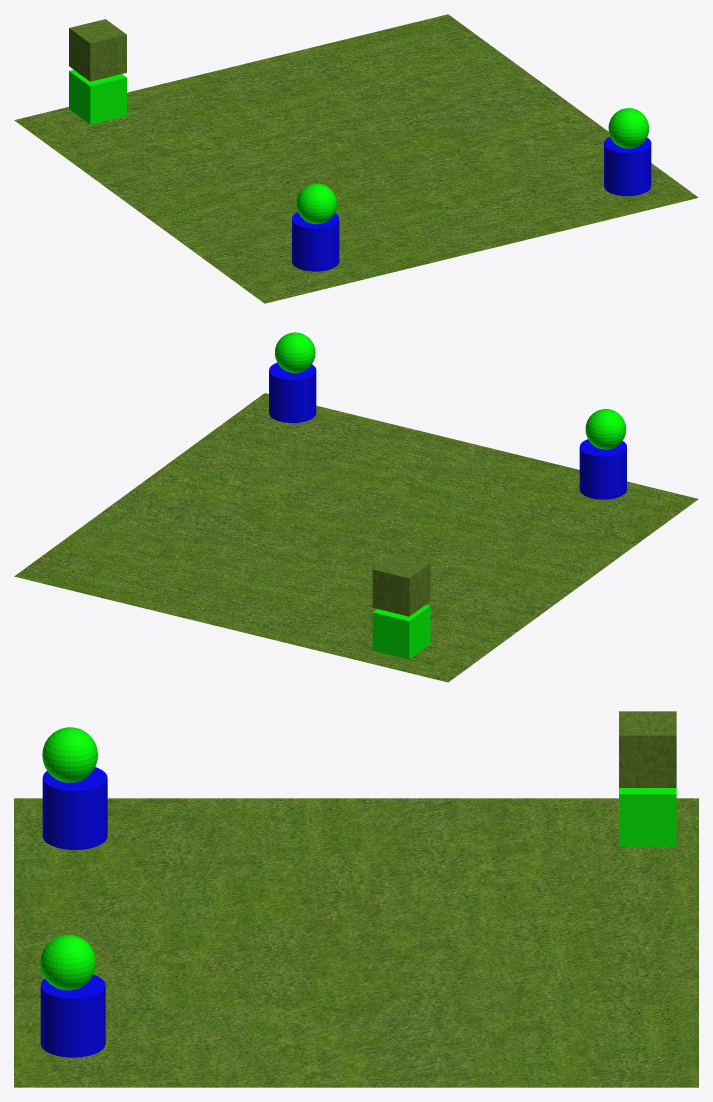
File: blend-test-plane.glb
3 views of the same model, one above another, from view 1: azimuth 30°, elevation 25°; view 2: azimuth 150°, elevation 25°; view 3: azimuth 270°, elevation 25° (orthographic). The views are drawn at different scales.
Visible parts, largest first — view 1: Plane~xxv, obj-1~mcv, obj3-mxx, obj-2~mvx; view 2: Plane~xxv, obj-1~mcv, obj-2~mvx, obj3-mxx; view 3: Plane~xxv, obj-1~mcv, obj-2~mvx, obj3-mxx.
Boxes of the visible parts, x1=… form: Plane~xxv: x1=14, y1=14, x2=698, y2=303; obj-1~mcv: x1=69, y1=19, x2=126, y2=124; obj3-mxx: x1=292, y1=183, x2=339, y2=271; obj-2~mvx: x1=604, y1=108, x2=651, y2=196; Plane~xxv: x1=14, y1=393, x2=698, y2=682; obj-1~mcv: x1=372, y1=554, x2=430, y2=659; obj-2~mvx: x1=269, y1=332, x2=316, y2=422; obj3-mxx: x1=579, y1=409, x2=626, y2=499; Plane~xxv: x1=14, y1=798, x2=698, y2=1087; obj-1~mcv: x1=619, y1=711, x2=676, y2=846; obj-2~mvx: x1=40, y1=935, x2=105, y2=1057; obj3-mxx: x1=42, y1=727, x2=107, y2=849.
Size of the model in its own units: 10 by 1.91 by 10.
Materials: 3 (1 with a texture image).
